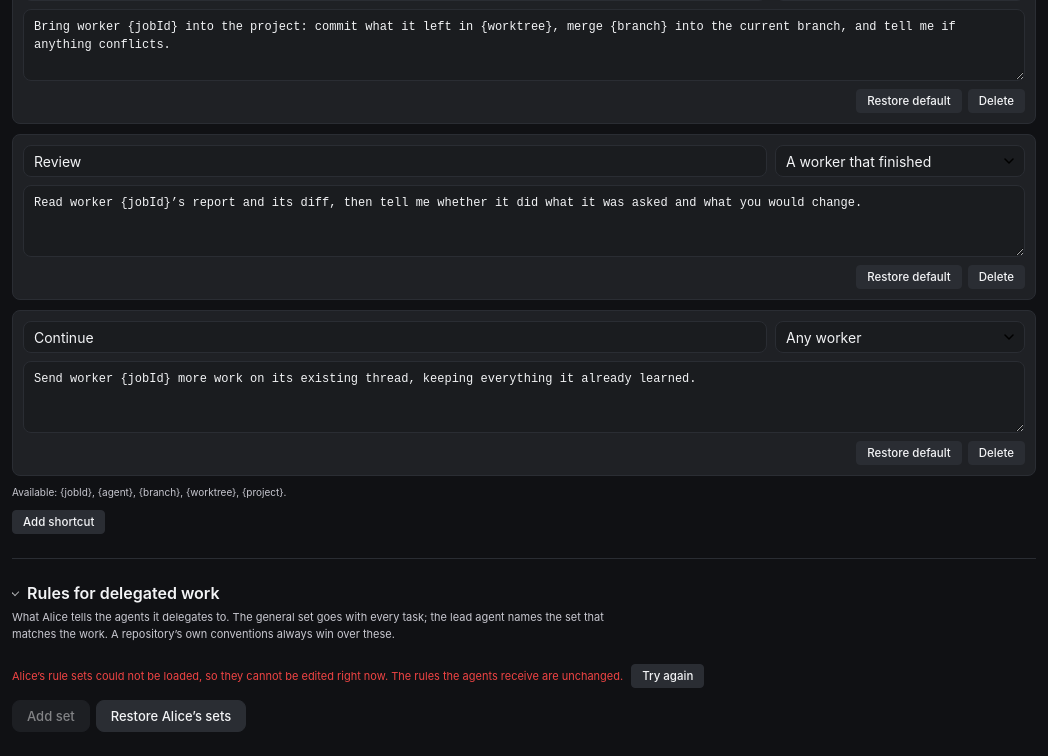
Test: rule sets when Alethe’s own could not be loaded › offers a retry that brings the editor back without reopening Preferences
(page scrolled)
Click the button "Try again". click: click(668, 676)
box: x1=631 y1=664 x2=704 y2=688
(page scrolled)
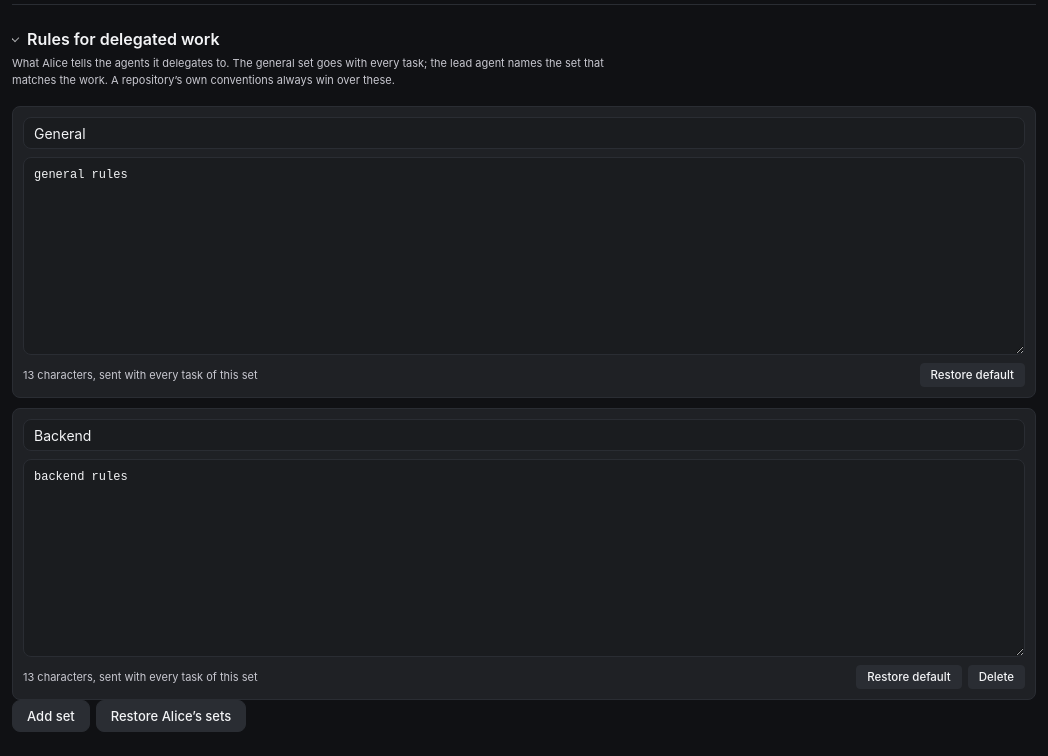
Expected: the number of fields named "Set name" is 2, x1=23 y1=117 x2=1025 y2=149; x1=23 y1=419 x2=1025 y2=451
Expected: the button "Add set" is enabled, x1=12 y1=700 x2=90 y2=732
